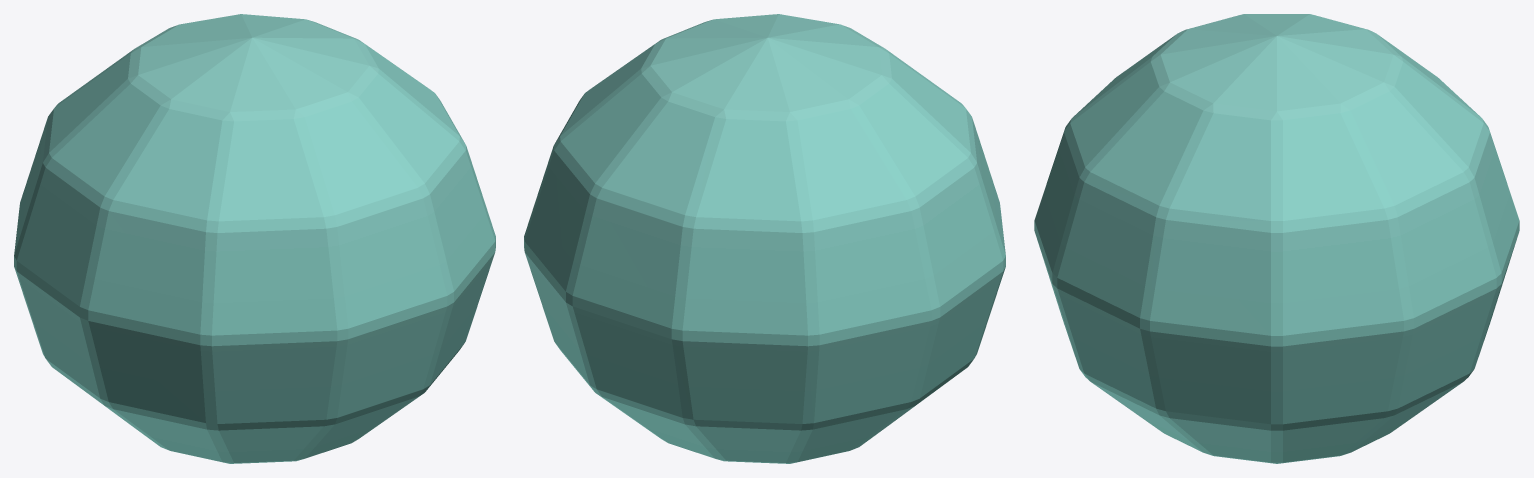
The model's file is gym-ball.glb.
3 views of the same model, side by side, from view 1: azimuth 30°, elevation 25°; view 2: azimuth 150°, elevation 25°; view 3: azimuth 270°, elevation 25° (orthographic).
Parts seen in each view (by area): view 1: stability_ball; view 2: stability_ball; view 3: stability_ball.
Part boxes in pixels (x1,y1,x2,y2): stability_ball: [14, 14, 495, 463]; stability_ball: [524, 14, 1005, 463]; stability_ball: [1034, 14, 1519, 463].
Size of the model in its own units: 0.6301 by 0.585 by 0.6366.
Materials: 1 (1 with a texture image).
